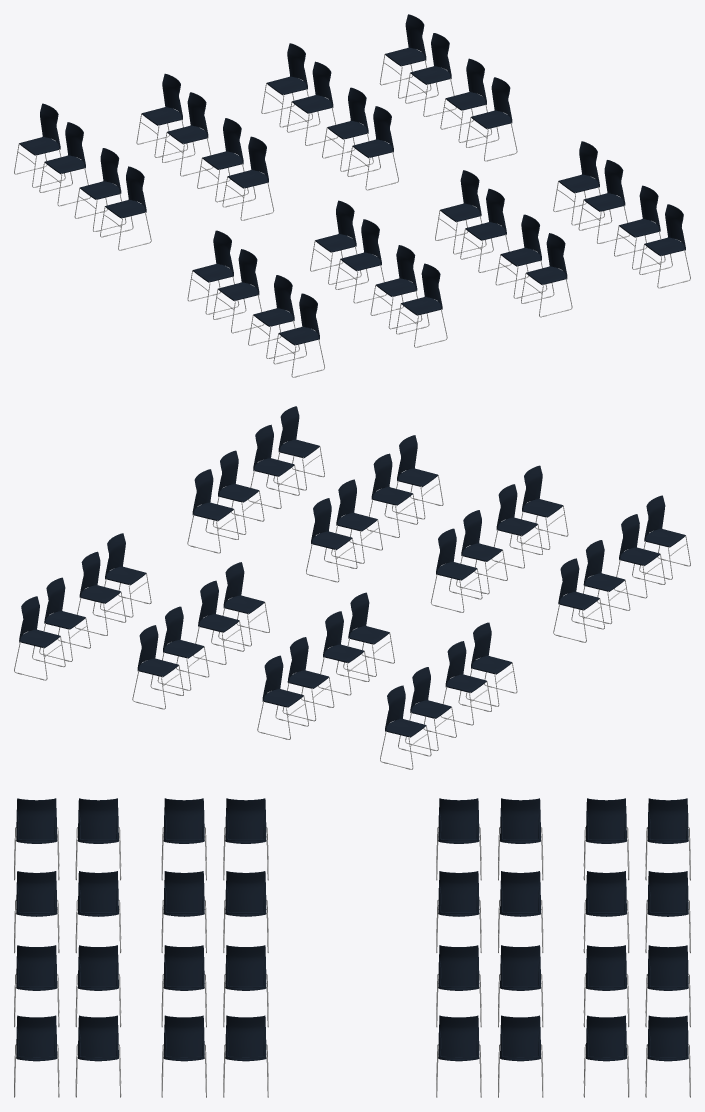
File: Chair_1.fbx
The picture shows the model from 3 angles, top to bottom: view 1: azimuth 30°, elevation 25°; view 2: azimuth 150°, elevation 25°; view 3: azimuth 270°, elevation 25°; orthographic projection. The views are drawn at different scales.
Visible parts, largest first — view 1: Chair; view 2: Chair; view 3: Chair.
Part boxes in pixels (left/top/right/bottom): Chair: left=14, top=14, right=690, bottom=377; Chair: left=14, top=406, right=690, bottom=769; Chair: left=14, top=798, right=690, bottom=1097.
Bounding box in the file's own units: 7.97 × 1.26 × 9.62.
